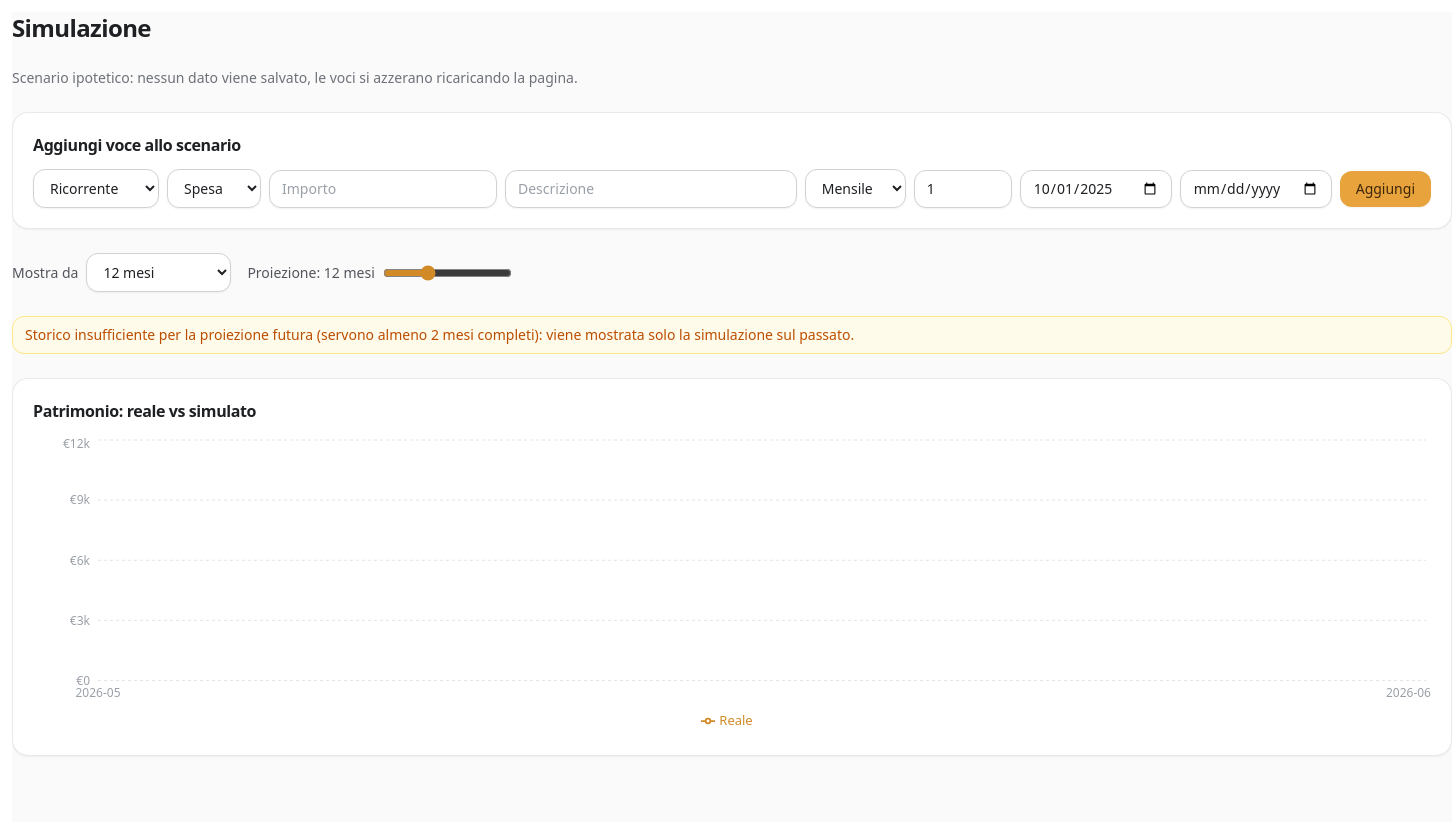
Test: SimulationPage › adds a scenario item and shows KPIs and the item list
Type "800" into the number field labelled "Importo" at (383, 188), box [269,170,497,208]
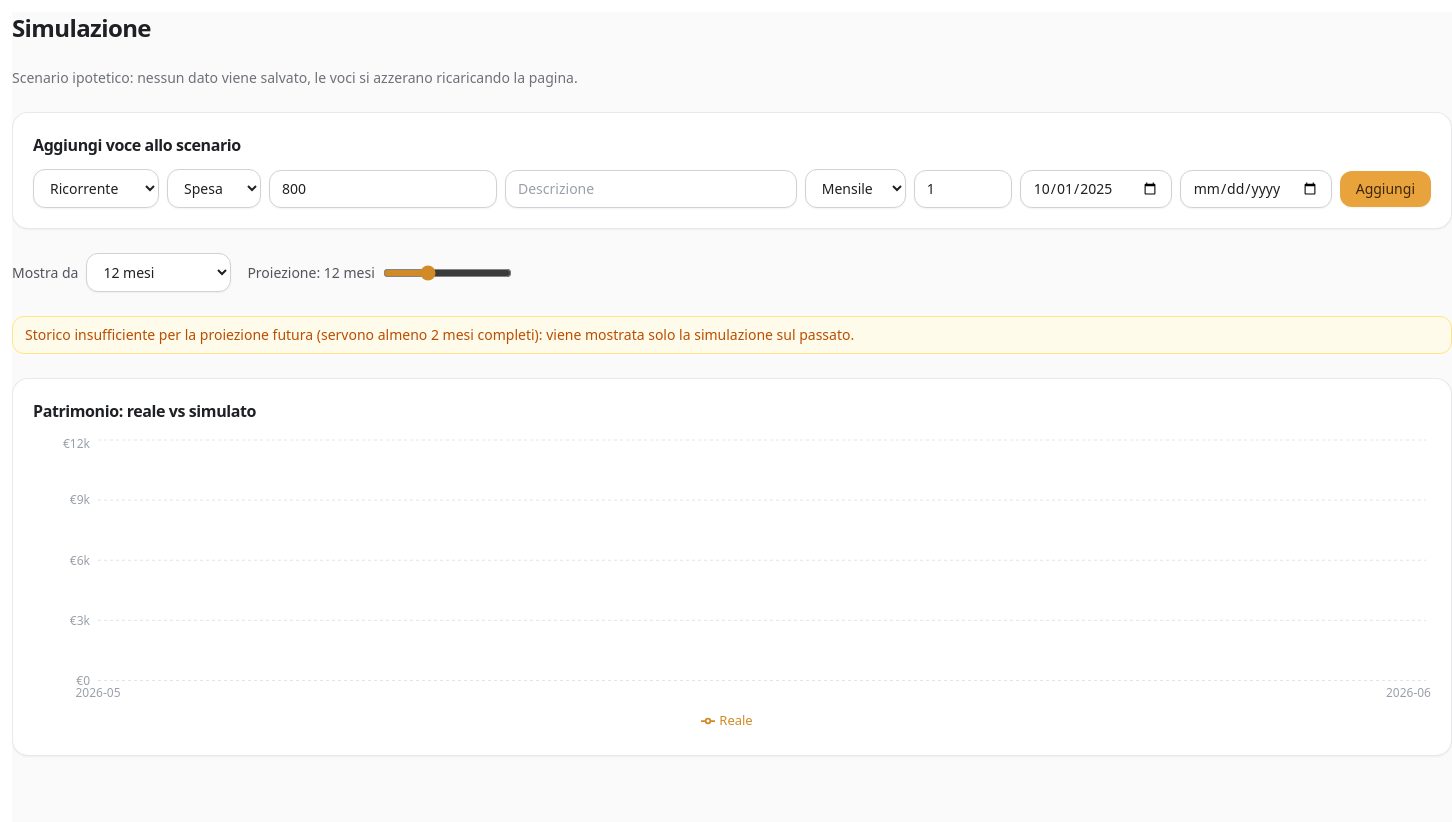
Type "Mutuo" into the field labelled "Descrizione" at (651, 188), box [505,170,797,208]
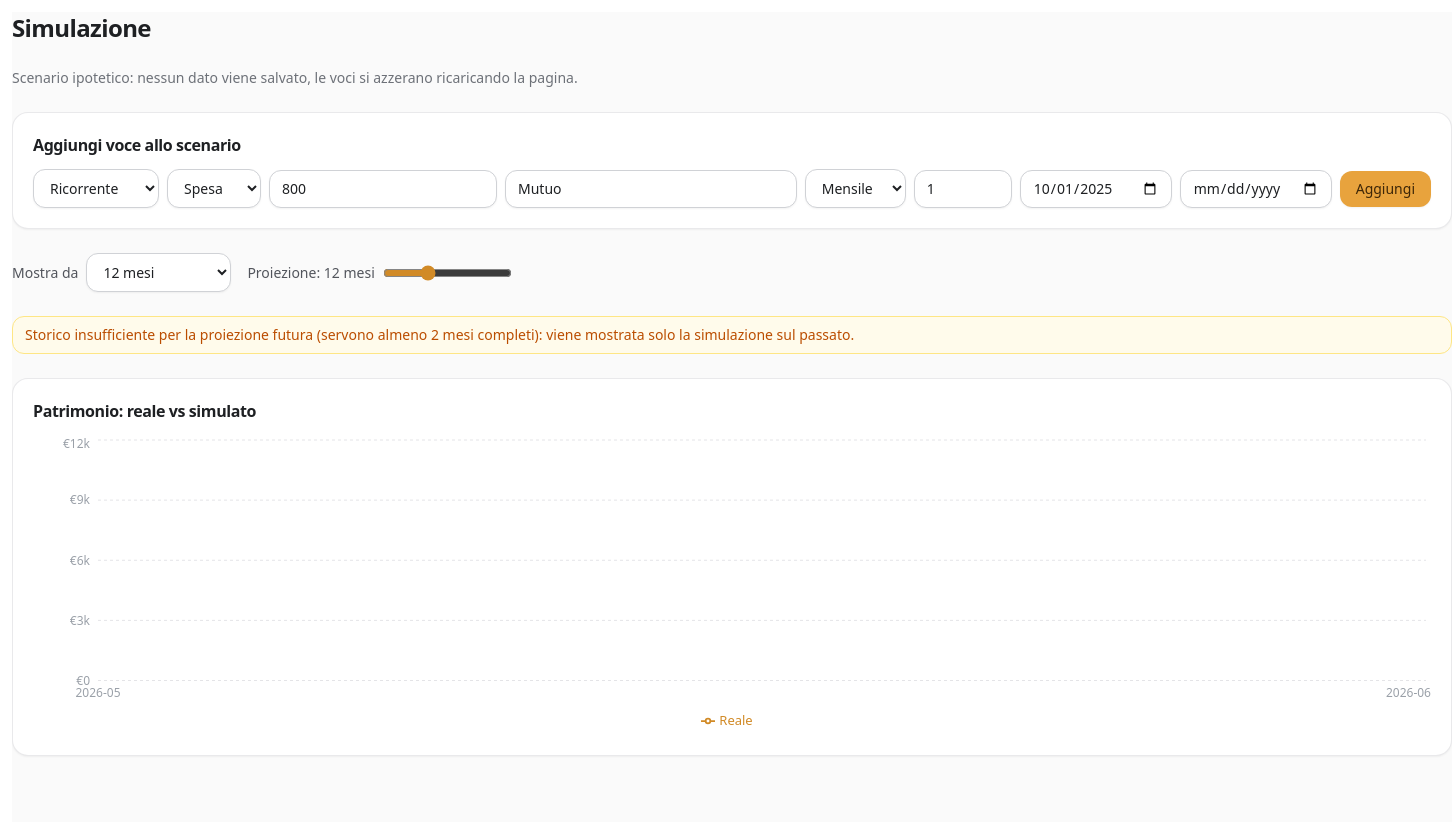
Click the button "Aggiungi" at (1385, 188), box [1340,170,1431,206]
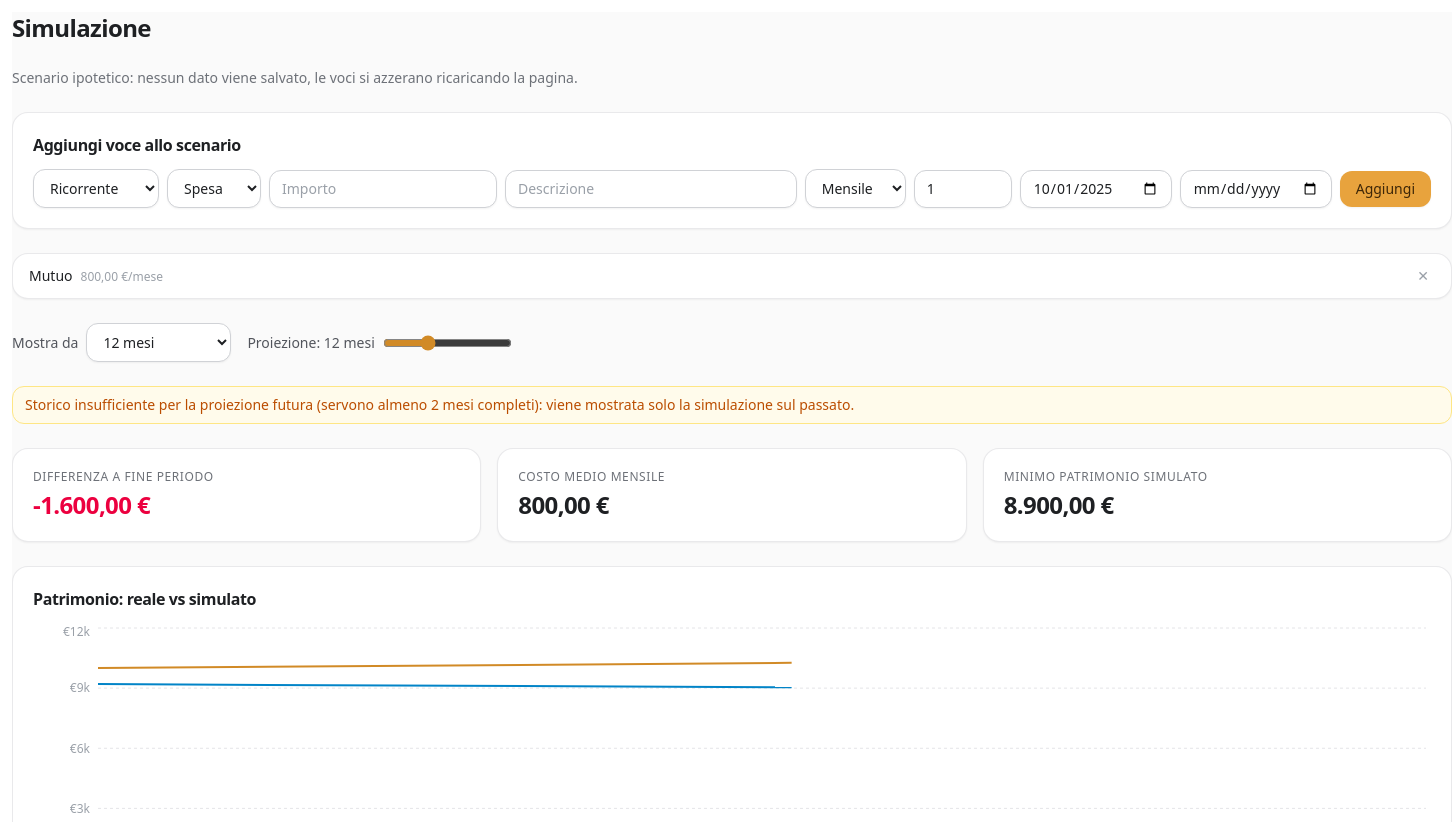
Check: the text "Mutuo" is shown, box [29,266,72,285]
Check: the text "Costo medio mensile" is shown, box [518,468,665,485]
Check: the text "Differenza a fine periodo" is shown, box [33,468,214,485]
